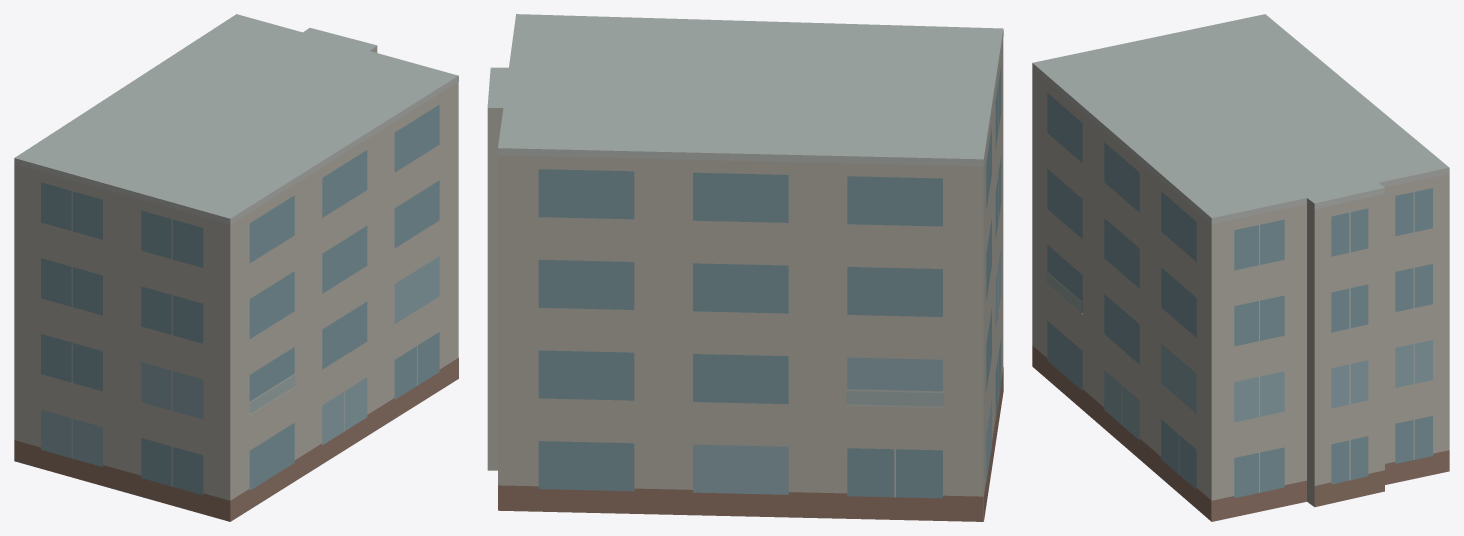
File: survey-upis-32963971.glb
3 renders of one model, left to right at view 1: azimuth 30°, elevation 25°; view 2: azimuth 150°, elevation 25°; view 3: azimuth 270°, elevation 25°, orthographic. The views are drawn at different scales.
Visible parts, largest first — view 1: survey-upis-32963971.tmp; view 2: survey-upis-32963971.tmp; view 3: survey-upis-32963971.tmp.
Boxes of the visible parts, box(x1,y1,x2,y2) form: survey-upis-32963971.tmp: box(14, 14, 458, 521); survey-upis-32963971.tmp: box(487, 14, 1003, 521); survey-upis-32963971.tmp: box(1032, 14, 1449, 521).
Bounding box in the file's own units: 17.89 × 12.4 × 15.45.
